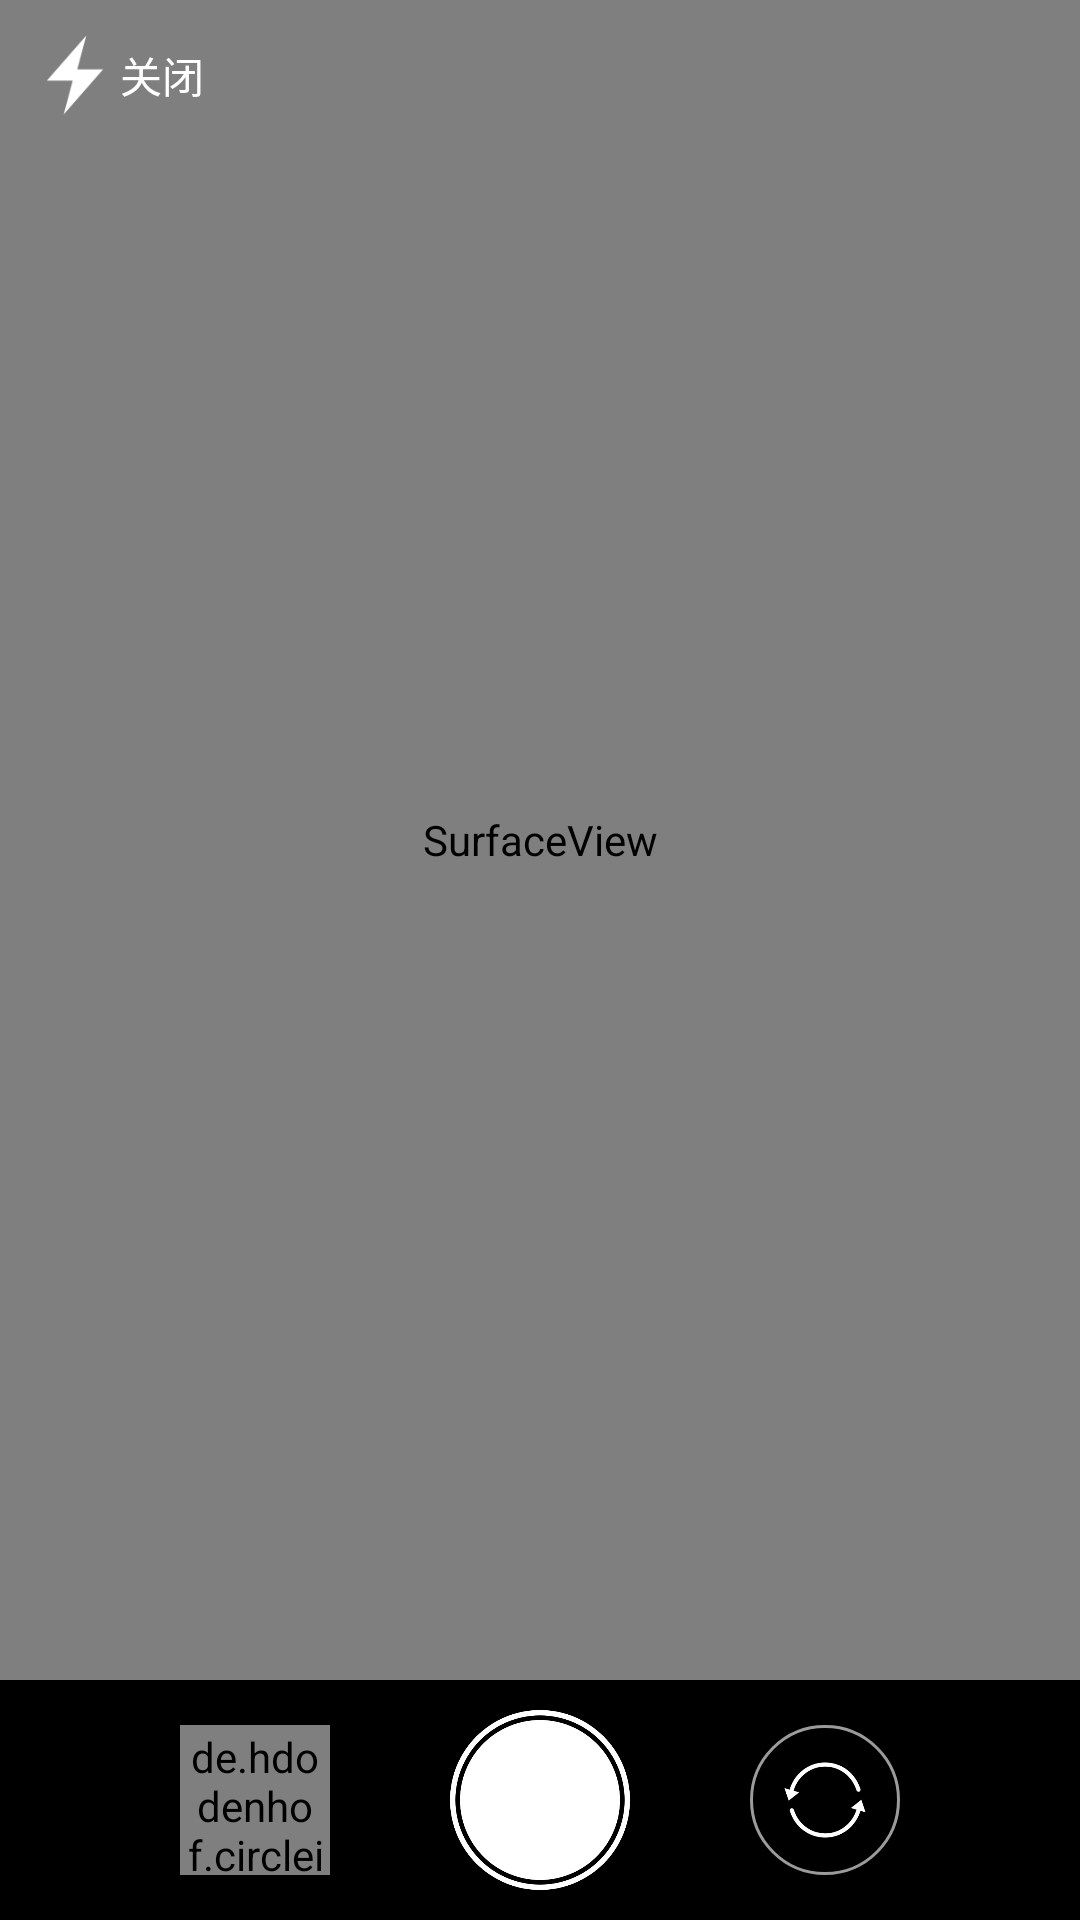

Point at icon controls on the screen. Image size 1080px x 1920px, points as point (x, y).
change: point (825, 1800)
flash: point (75, 75)
takephoto: point (540, 1800)
